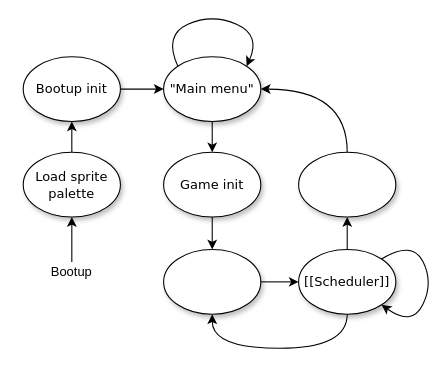
This 447x367 diagram has some shape labels left out. Each missing label, with the centre of its shape:
Game cleanup: (347,186)
Wave init: (212,283)
